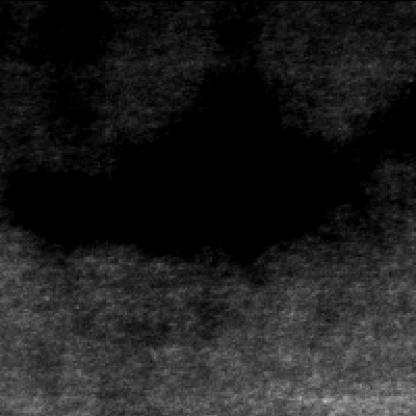patches: (11, 71, 336, 258), (358, 79, 414, 164), (39, 0, 110, 60)
